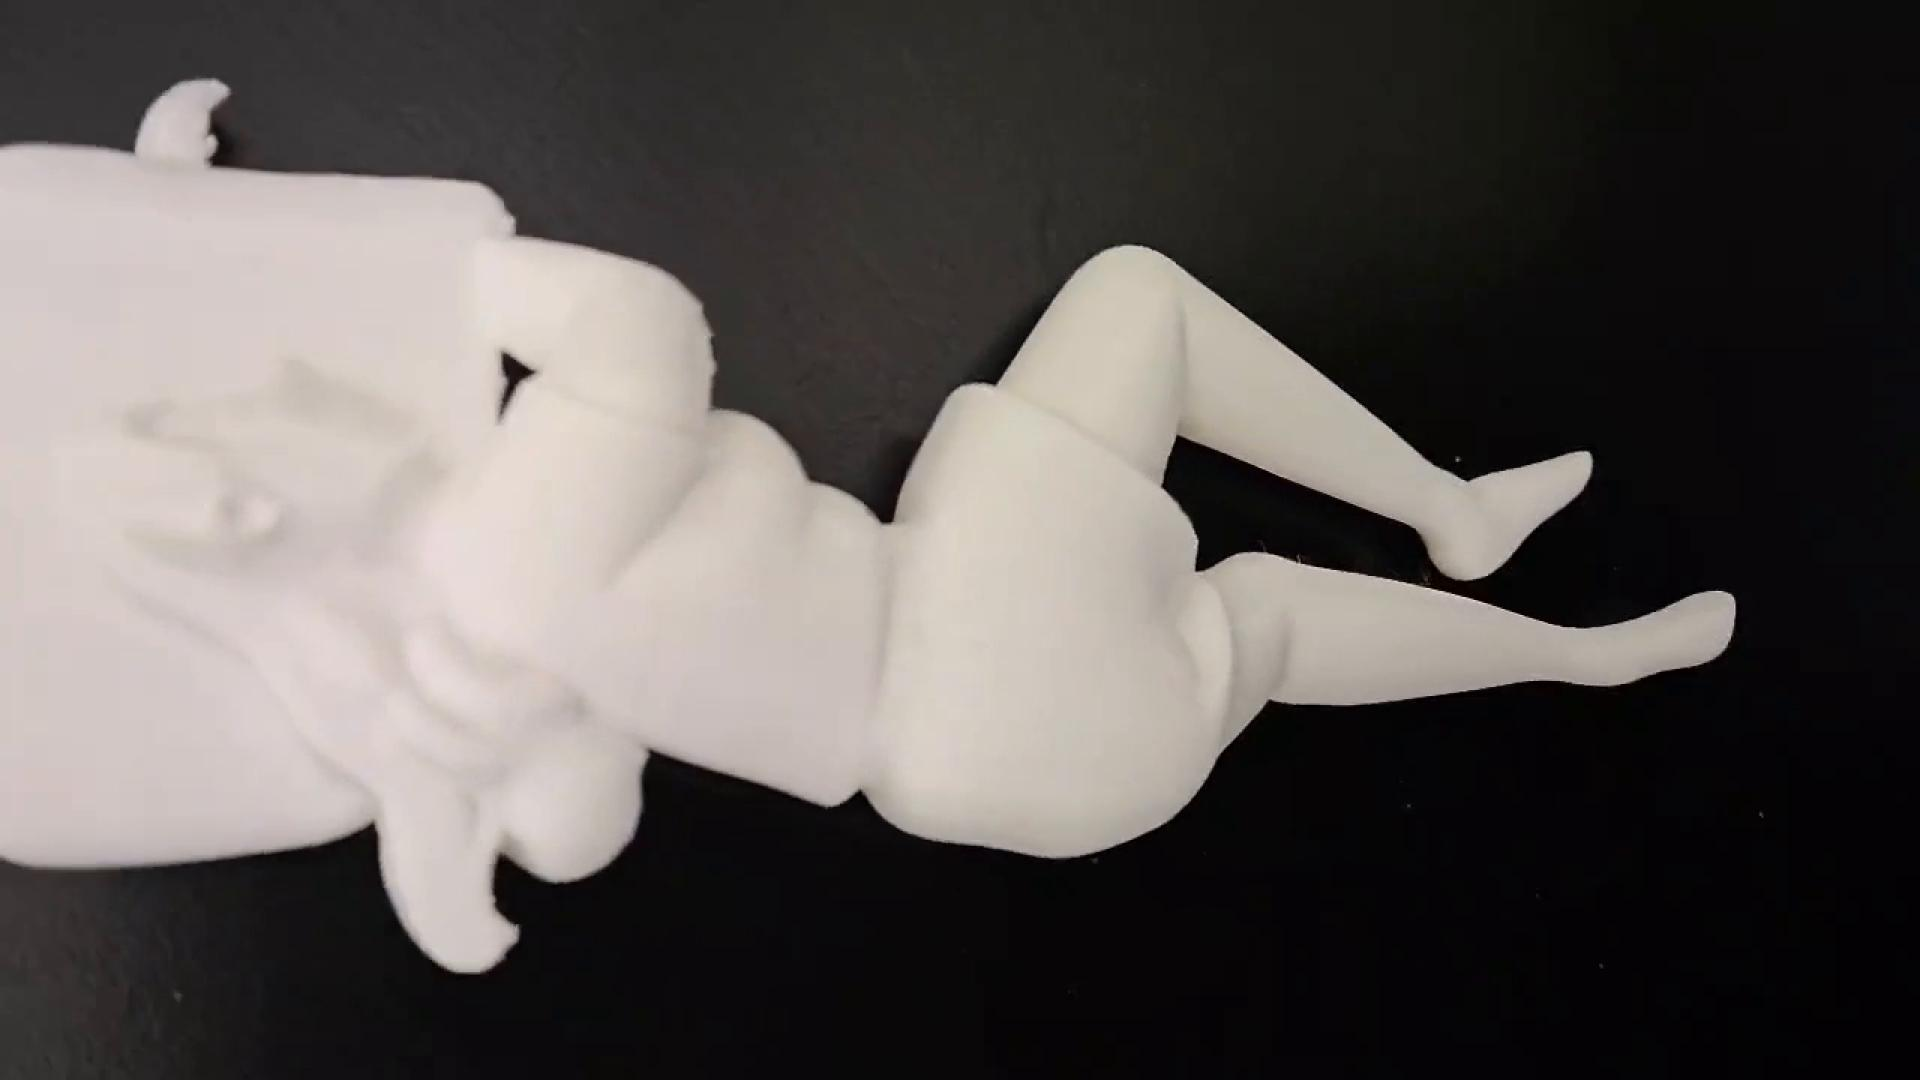Good-style: (0, 76, 1735, 975)
